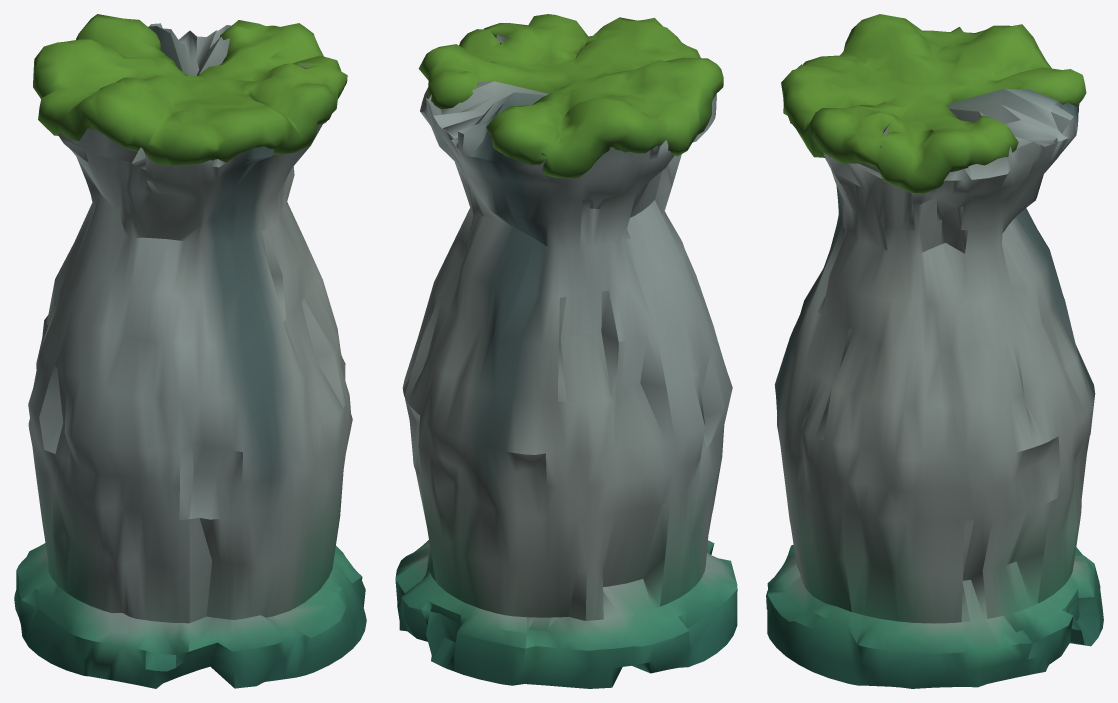
The model's file is grotto_baluster_broken.glb.
3 renders of one model, left to right at view 1: azimuth 30°, elevation 25°; view 2: azimuth 150°, elevation 25°; view 3: azimuth 270°, elevation 25°, orthographic. The views are drawn at different scales.
Parts seen in each view (by area): view 1: grotto_baluster_broken; view 2: grotto_baluster_broken; view 3: grotto_baluster_broken.
Part boxes in pixels (x1,y1,x2,y2): grotto_baluster_broken: (14, 14, 366, 688); grotto_baluster_broken: (395, 14, 737, 688); grotto_baluster_broken: (766, 14, 1103, 688).
Bounding box in the file's own units: 6.3 × 11.36 × 6.27.
